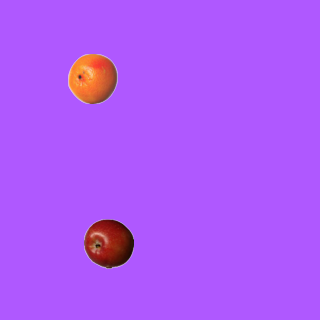Apple Braeburn: (83, 218, 133, 268)
Grapefruit Pink: (67, 53, 117, 103)
